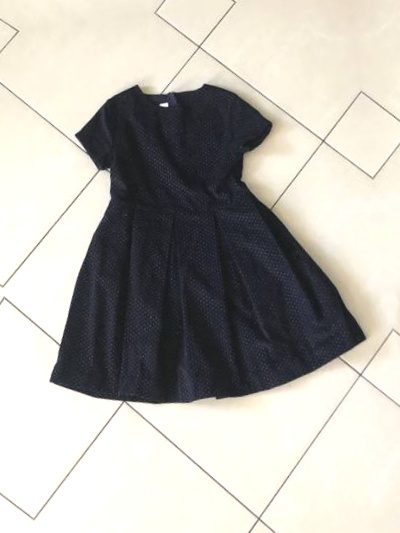Dress: (9, 35, 366, 441), (390, 0, 400, 390)
